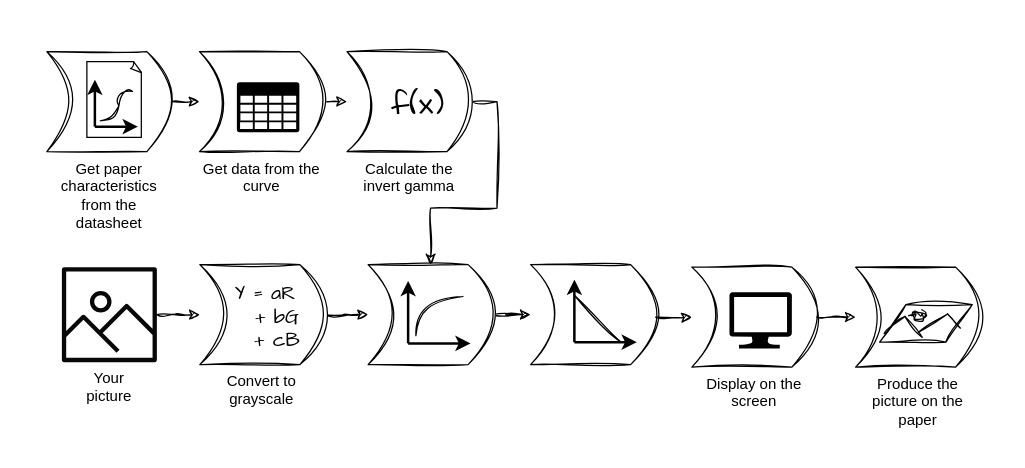
This 1025x468 diagram has some shape labels left out. The centre of each missing label's shape, as x and y in pixels:
Apply the invert gamma: [430,314]
Datasheet: [114,98]
Invert black and white: [592,314]
